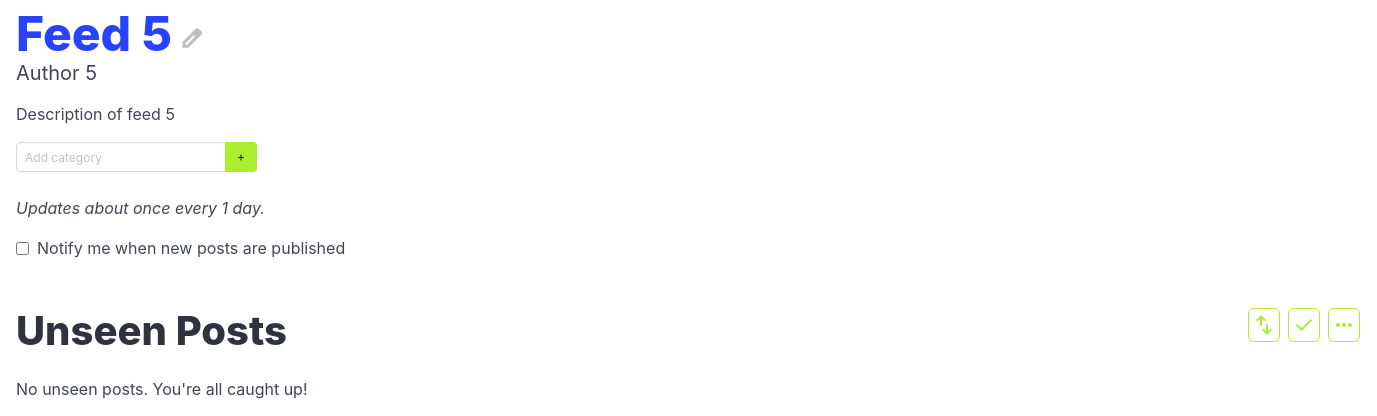
Test: item pages › refetches including finished items when toggled
The image size is (1377, 416).
Step 1. Click the icon titled "Show finished items" → (1304, 325), box [1288,308,1320,342]
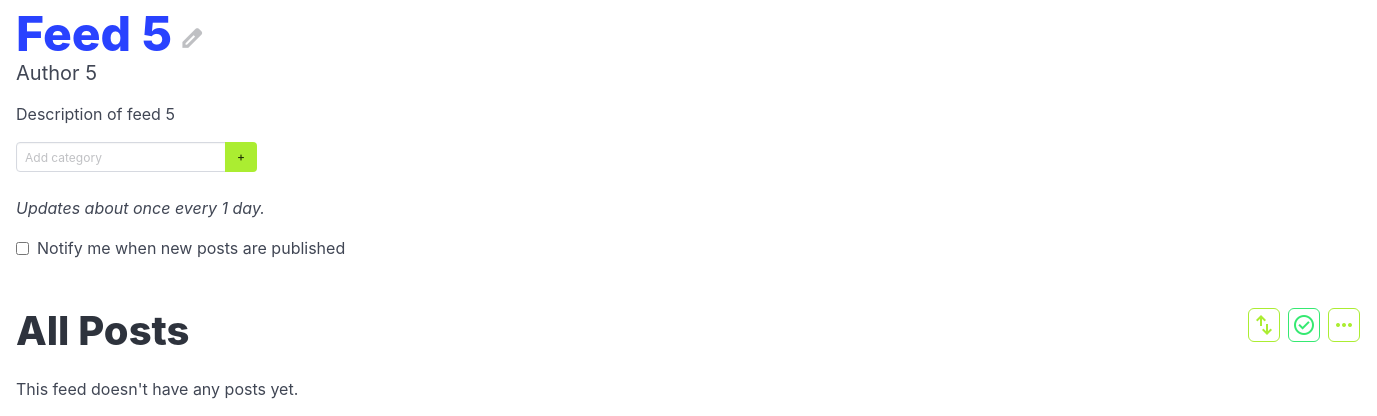
Check: the heading "All Posts" is shown, box [16,308,190,353]
